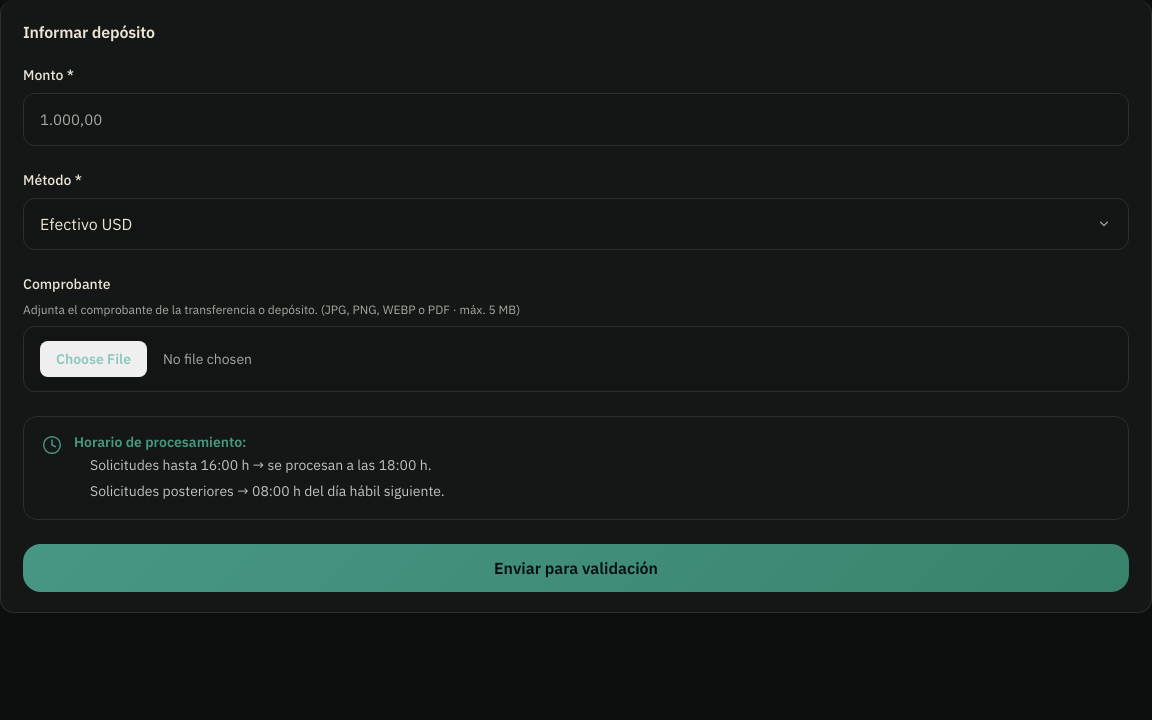
Test case: DepositForm › derives method options from deposit options
What coordinates should you click on to do the following:
click the button named "Método"
I would click on:
 (86, 224)
Its box is [23, 198, 1129, 250].
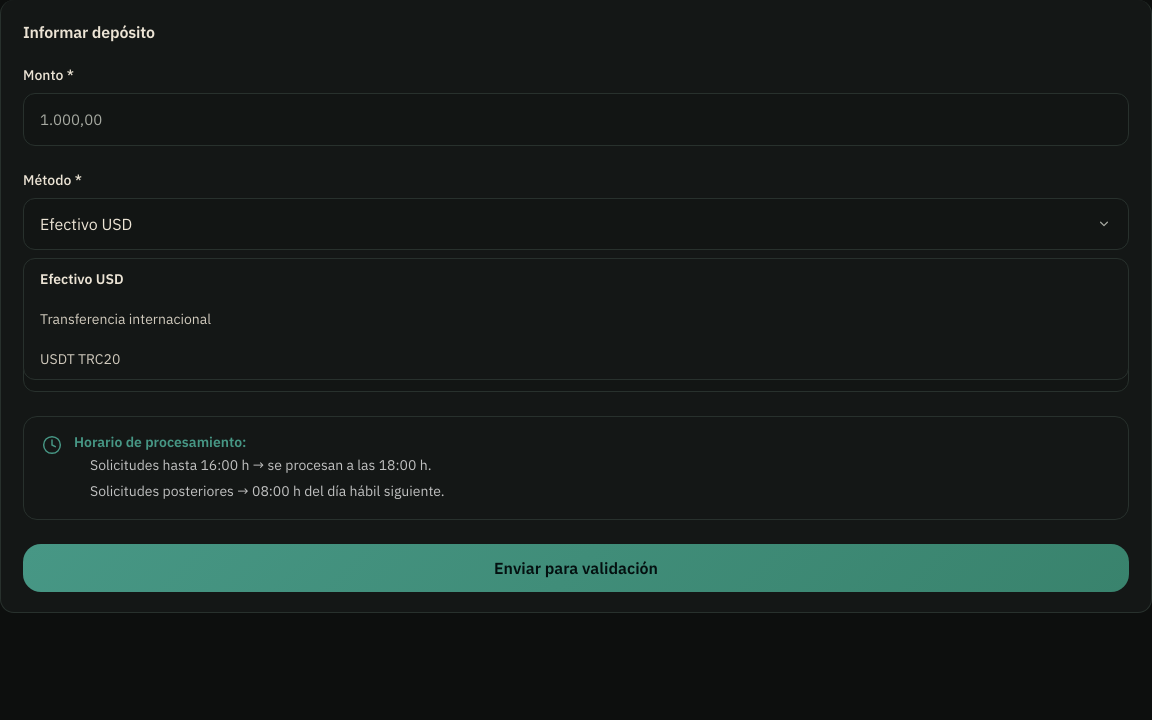
Check: the option "Transferencia internacional" is shown, box [24, 299, 1128, 339]
Check: the option "USDT TRC20" is shown, box [24, 339, 1128, 379]
